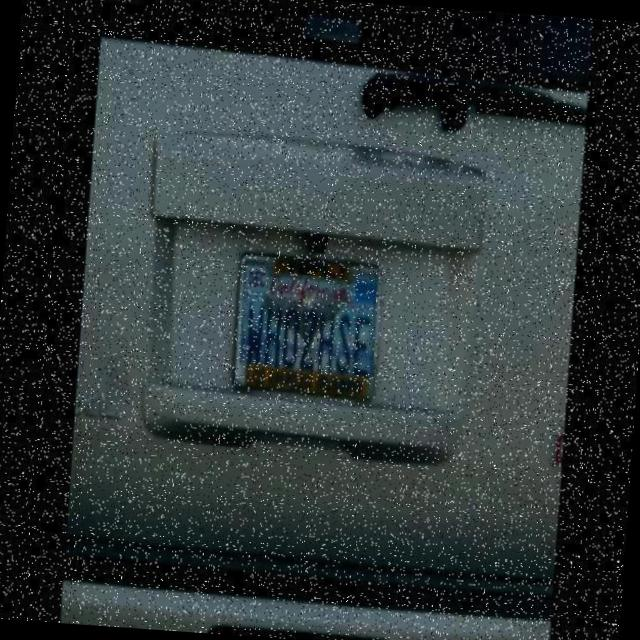LicensePlate: (215, 229, 393, 412)
